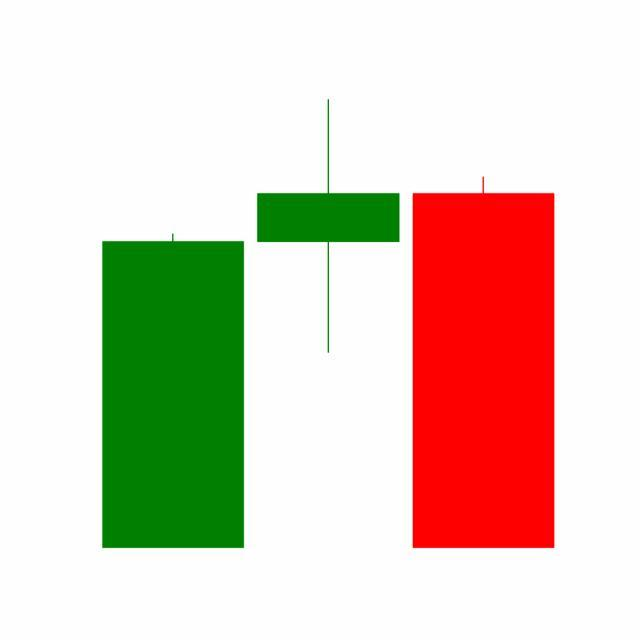Spinning Top: (250, 97, 407, 357)
